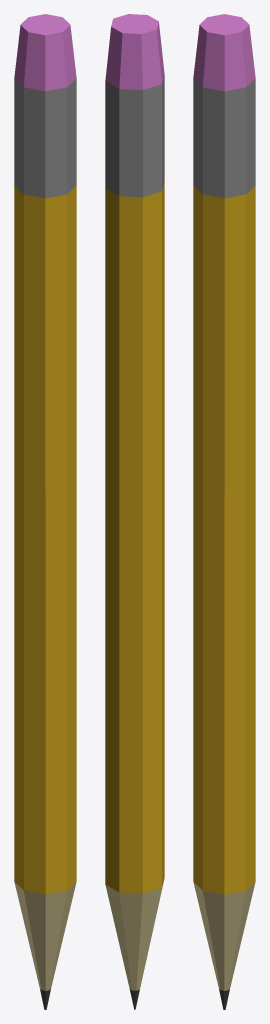
File: Pencil.fbx
3 renders of one model, left to right at view 1: azimuth 90°, elevation 25°; view 2: azimuth 150°, elevation 25°; view 3: azimuth 270°, elevation 25°, orthographic.
Parts seen in each view (by area): view 1: Pencil; view 2: Pencil; view 3: Pencil.
Part boxes in pixels (x1=…): Pencil: x1=14, y1=14, x2=76, y2=1009; Pencil: x1=105, y1=14, x2=164, y2=1009; Pencil: x1=193, y1=14, x2=255, y2=1009.
Bounding box in the file's own units: 24.01 × 418 × 24.01.
